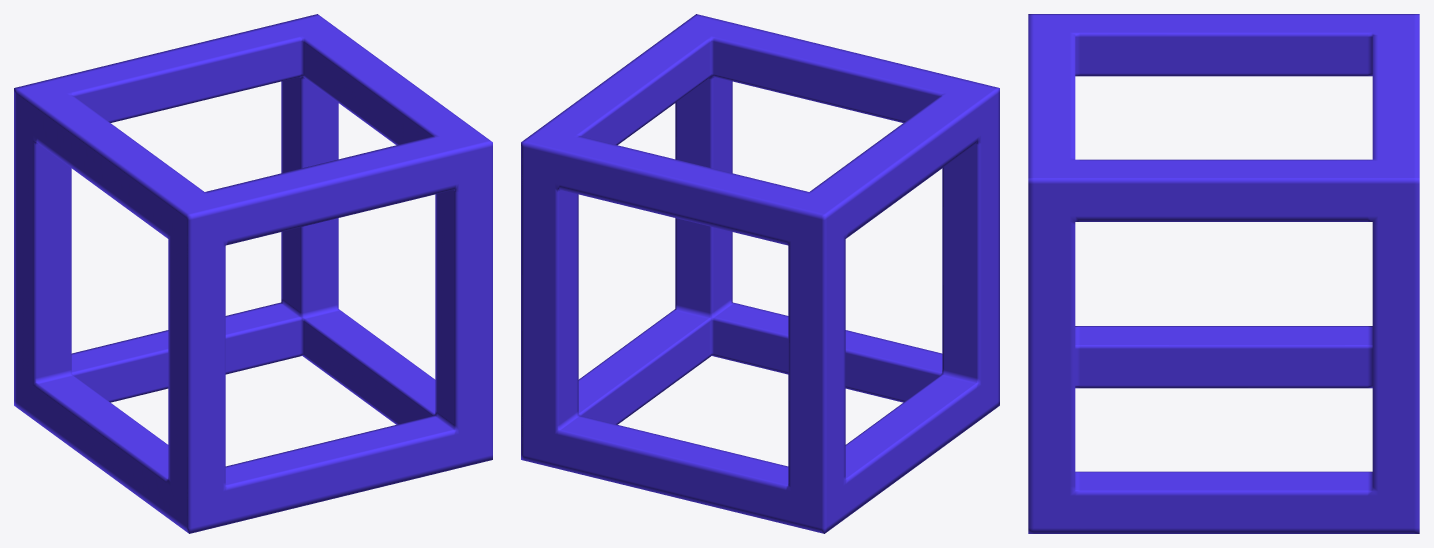
The picture shows the model from 3 angles, left to right: view 1: azimuth 30°, elevation 25°; view 2: azimuth 150°, elevation 25°; view 3: azimuth 270°, elevation 25°; orthographic projection. The views are drawn at different scales.
Parts seen in each view (by area): view 1: Cube; view 2: Cube; view 3: Cube.
Part boxes in pixels (x1=…): Cube: x1=14, y1=14, x2=492, y2=533; Cube: x1=521, y1=14, x2=999, y2=533; Cube: x1=1028, y1=14, x2=1419, y2=533.
Bounding box in the file's own units: 2 × 2 × 2.
